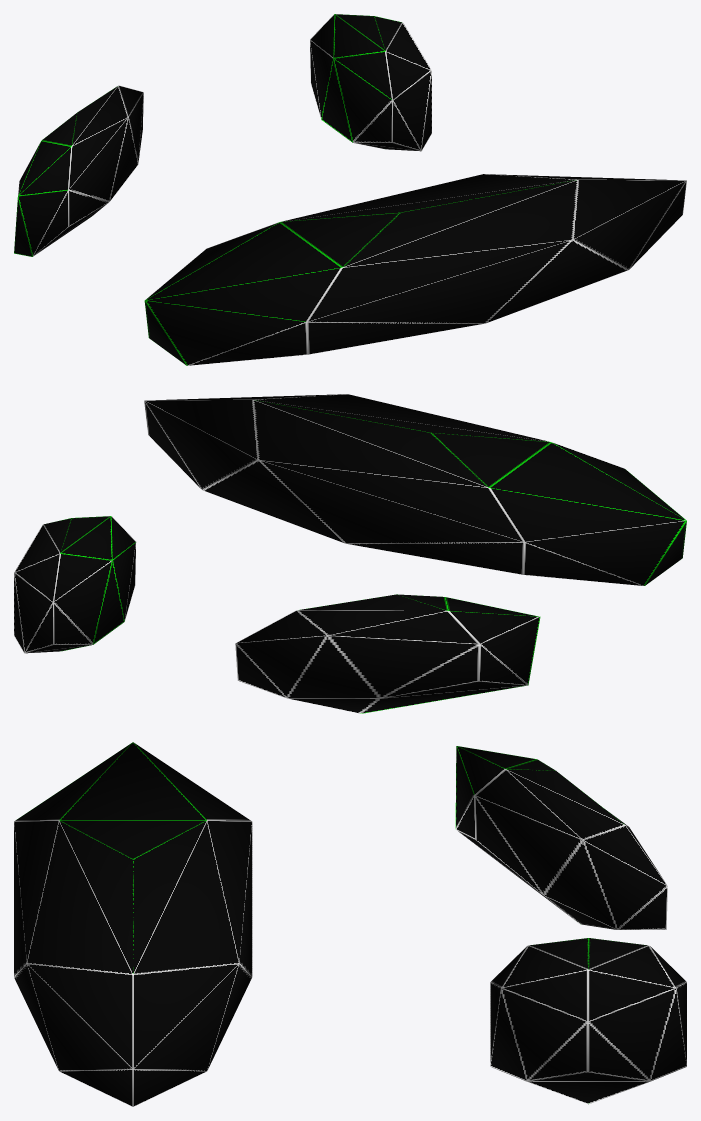
The model's file is mountains.obj.
3 views of the same model, one above another, from view 1: azimuth 30°, elevation 25°; view 2: azimuth 150°, elevation 25°; view 3: azimuth 270°, elevation 25° (orthographic). The views are drawn at different scales.
Parts seen in each view (by area): view 1: GeoSphere002, GeoSphere003, GeoSphere001; view 2: GeoSphere002, GeoSphere001, GeoSphere003; view 3: GeoSphere002, GeoSphere003, GeoSphere001.
Boxes of the visible parts, x1=… form: GeoSphere002: x1=144, y1=174, x2=686, y2=365; GeoSphere003: x1=310, y1=14, x2=431, y2=151; GeoSphere001: x1=14, y1=85, x2=143, y2=256; GeoSphere002: x1=144, y1=394, x2=686, y2=585; GeoSphere001: x1=235, y1=594, x2=540, y2=713; GeoSphere003: x1=14, y1=516, x2=136, y2=653; GeoSphere002: x1=14, y1=742, x2=252, y2=1106; GeoSphere003: x1=490, y1=938, x2=686, y2=1104; GeoSphere001: x1=455, y1=746, x2=667, y2=929.
Bounding box in the file's own units: 4435 × 1060 × 4027.
1 material, 1 textured.
